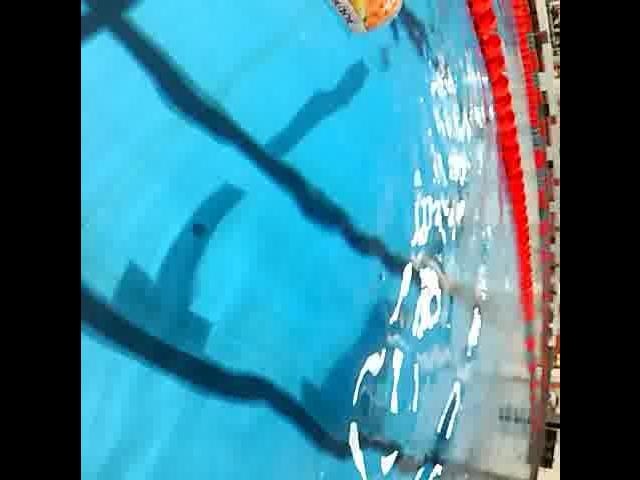Bottle: (263, 0, 407, 44)
